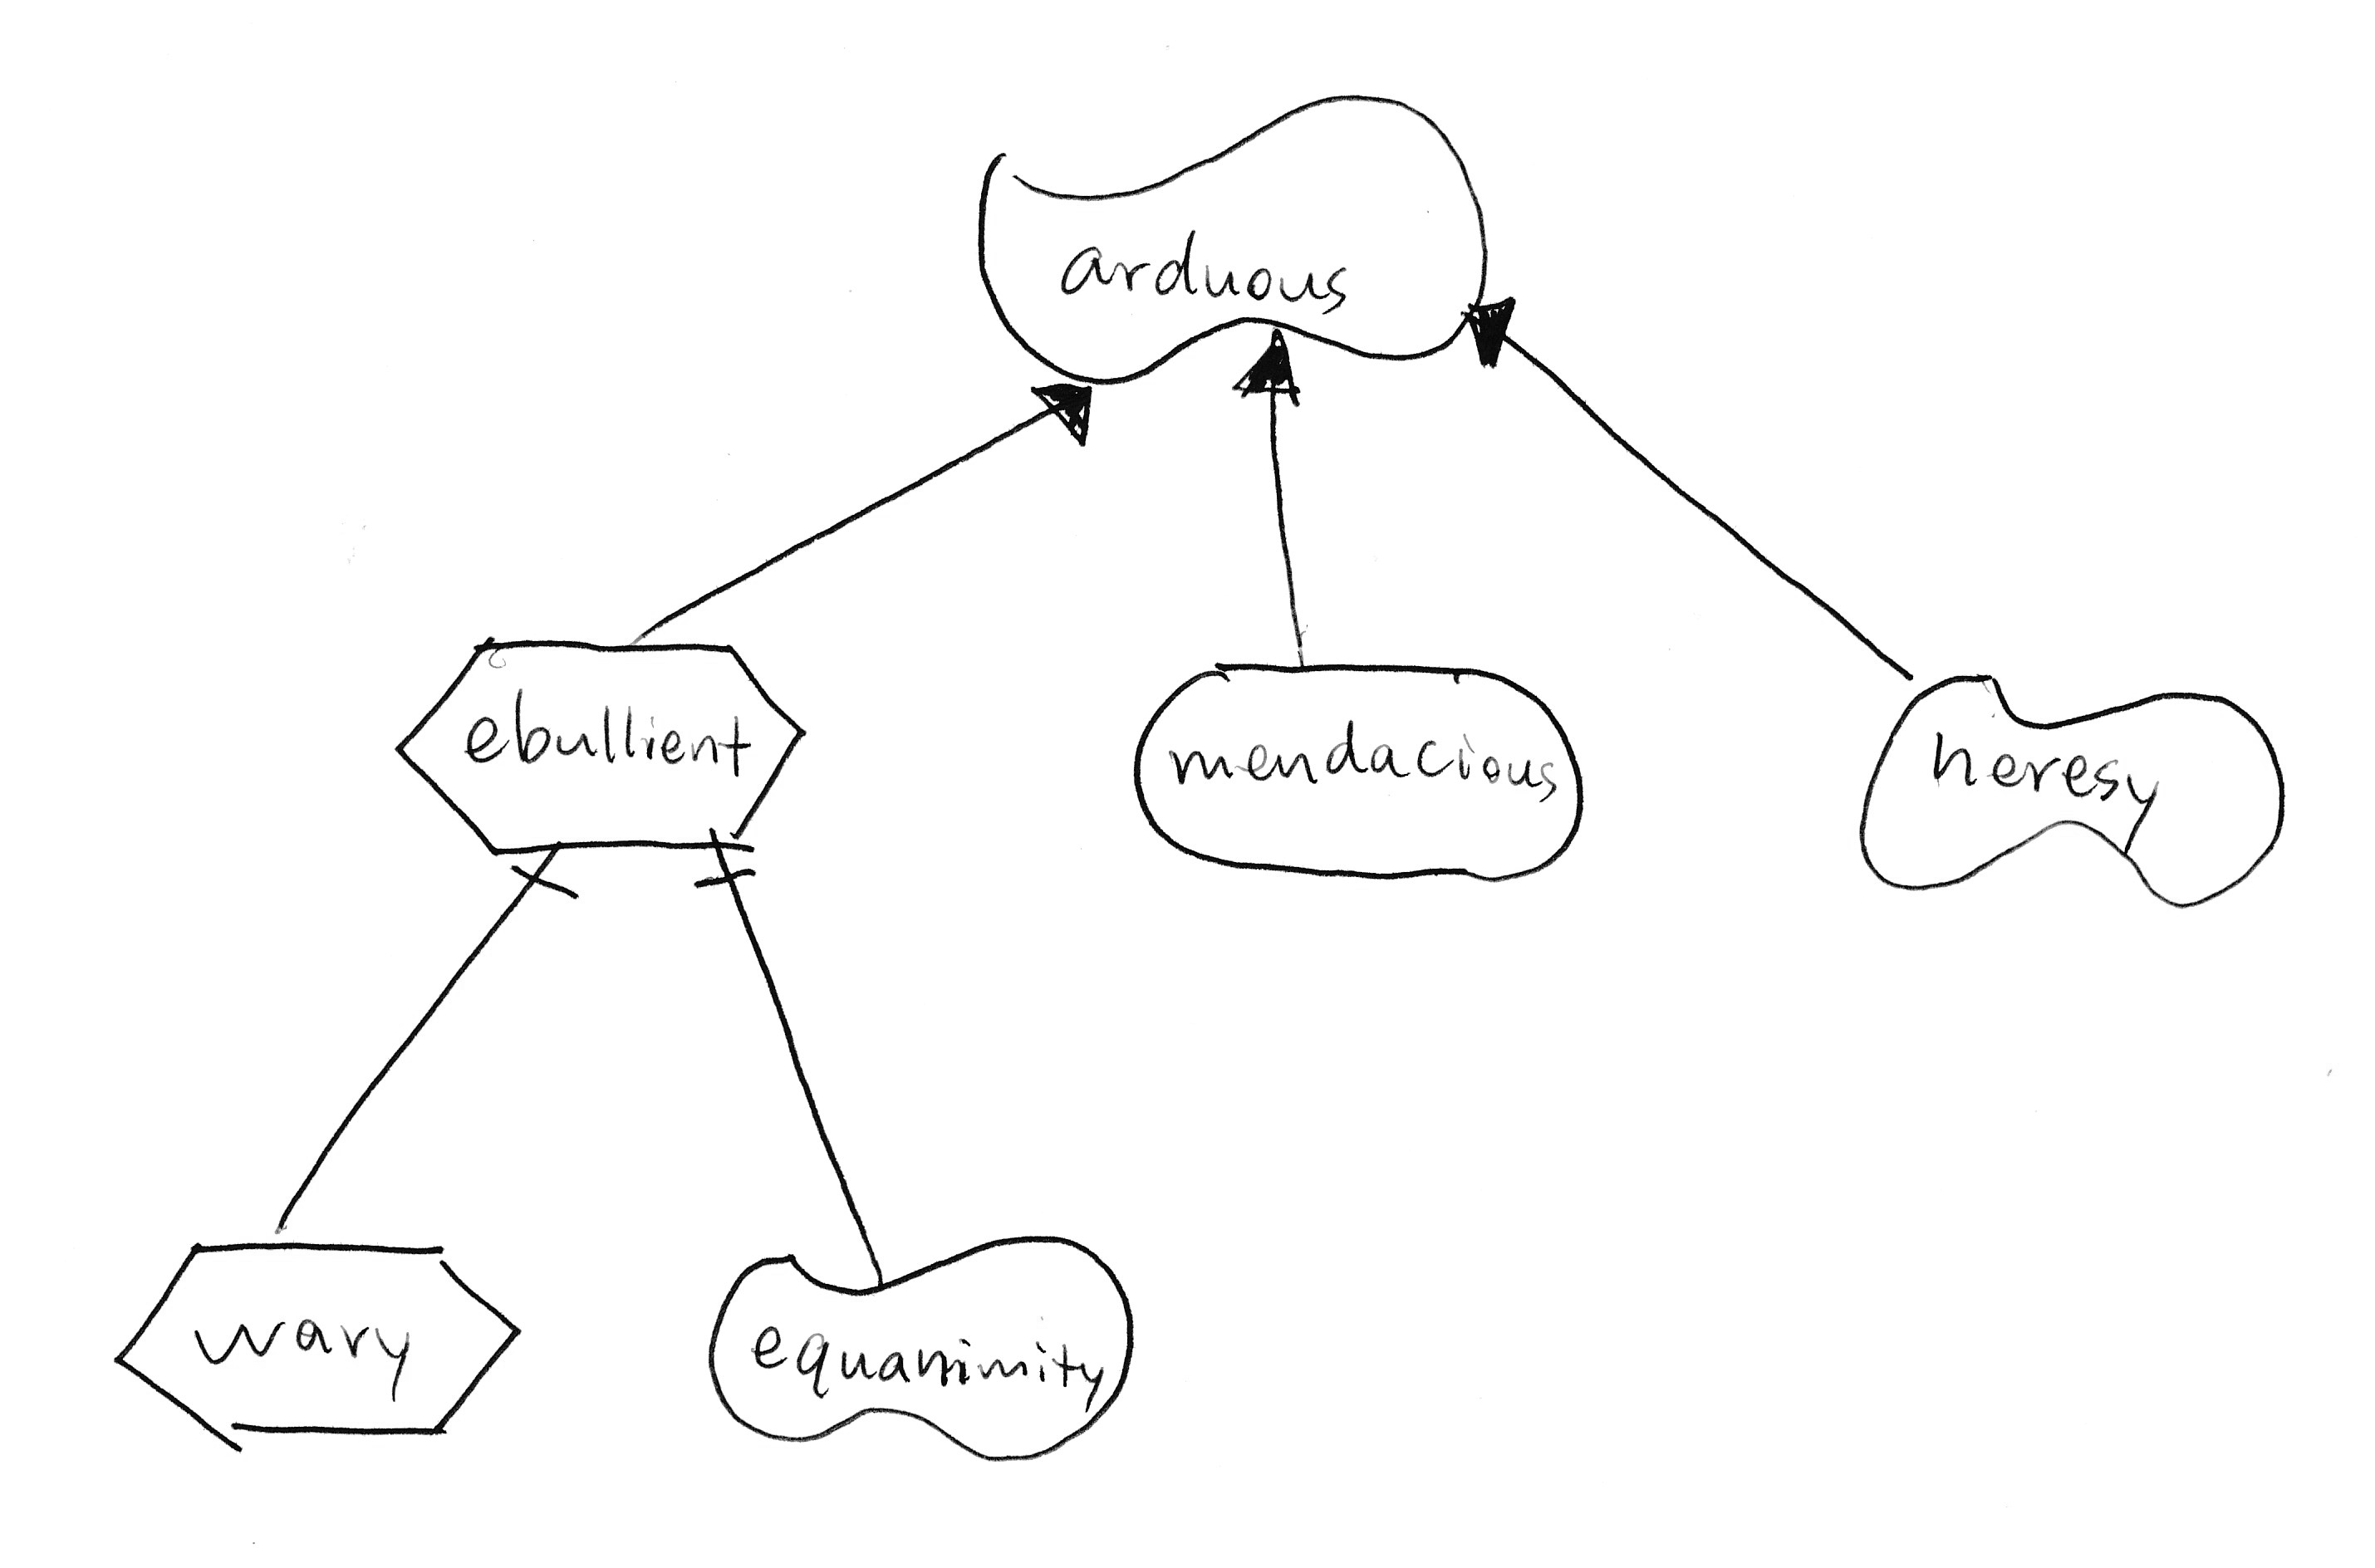and: (684, 821, 775, 906), (494, 837, 588, 914)
goal: (1106, 646, 1600, 901)
or: (1218, 315, 1316, 427), (1017, 352, 1111, 465), (1440, 287, 1535, 376)
quality: (949, 63, 1512, 415), (1838, 653, 2315, 915), (688, 1213, 1153, 1475)
task: (371, 611, 816, 870), (88, 1220, 541, 1456)
